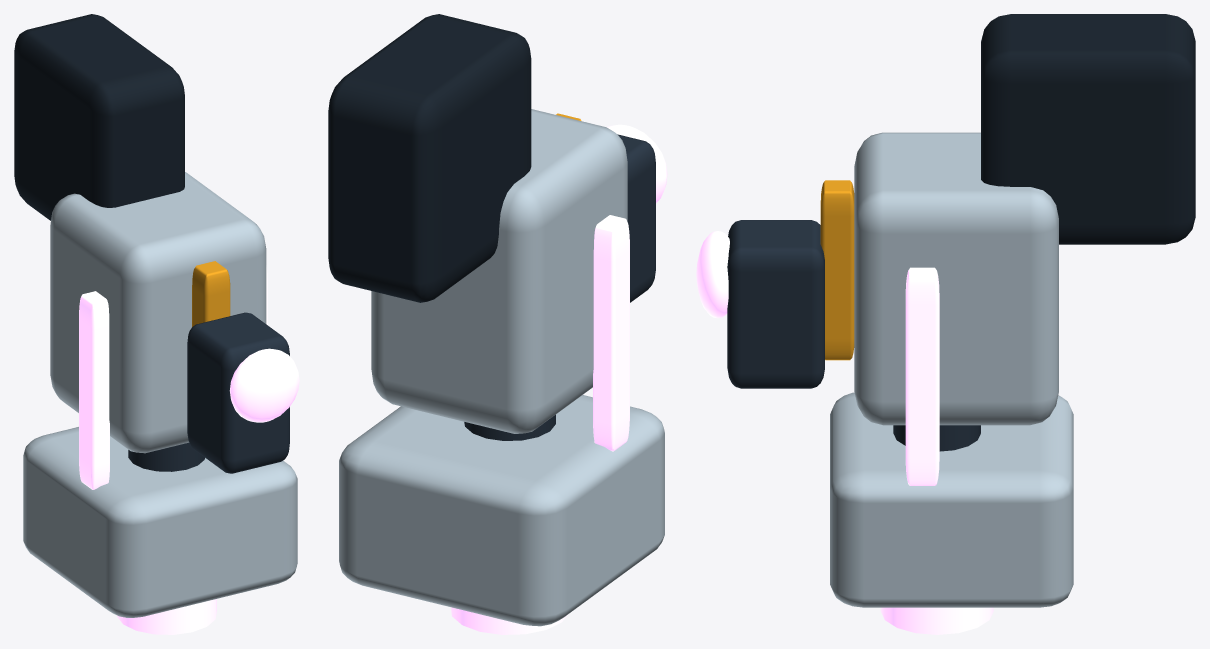
Rendered from pistol-7.glb.
3 views of the same model, side by side, from view 1: azimuth 30°, elevation 25°; view 2: azimuth 150°, elevation 25°; view 3: azimuth 270°, elevation 25° (orthographic). The views are drawn at different scales.
Size of the model in its own units: 0.2762 by 0.7238 by 0.5658.
